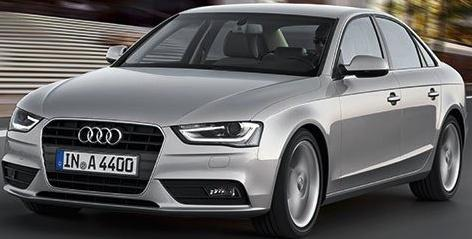Cars: (1, 6, 468, 239)
